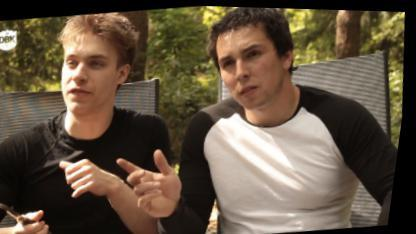knife: (0, 188, 78, 233)
